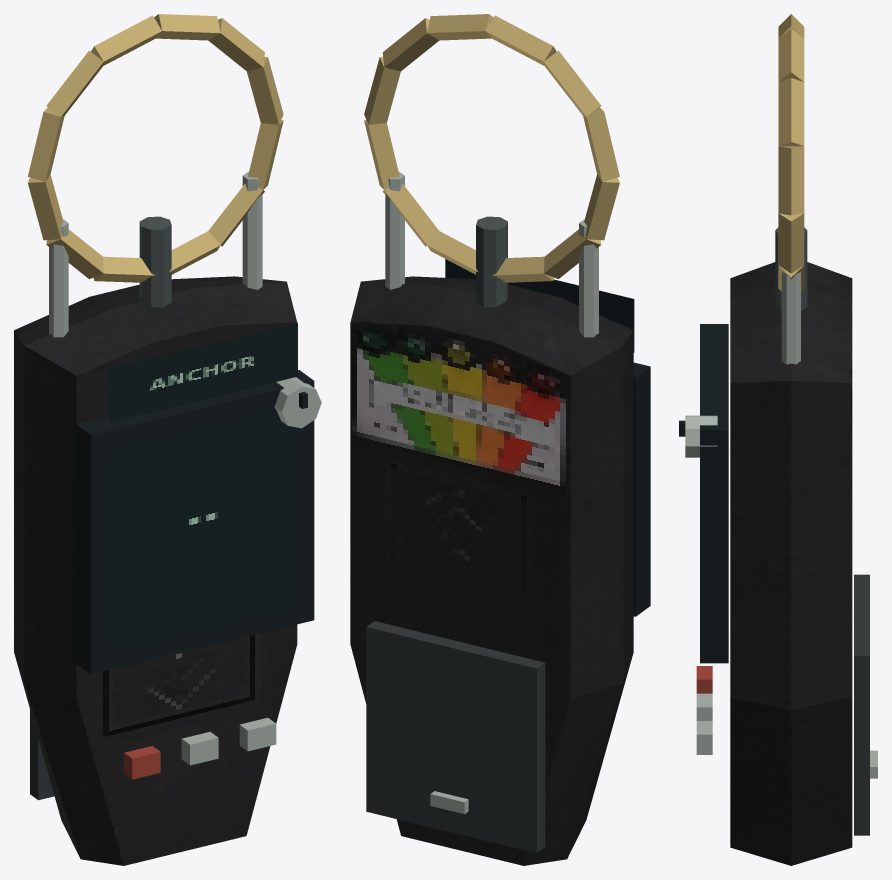
Rendered from blender_ritual_anchor_meter_2.glb.
3 views of the same model, side by side, from view 1: azimuth 30°, elevation 25°; view 2: azimuth 150°, elevation 25°; view 3: azimuth 270°, elevation 25° (orthographic). The views are drawn at different scales.
Visible parts, largest first — view 1: blender_ritual_anchor_meter_2; view 2: blender_ritual_anchor_meter_2; view 3: blender_ritual_anchor_meter_2.
Boxes of the visible parts, x1,y1,x2,y2 form: blender_ritual_anchor_meter_2: (14,14,321,865); blender_ritual_anchor_meter_2: (350,14,650,865); blender_ritual_anchor_meter_2: (679,14,877,865).
Size of the model in its own units: 0.092 by 0.2769 by 0.062.
1 material, 1 textured.
